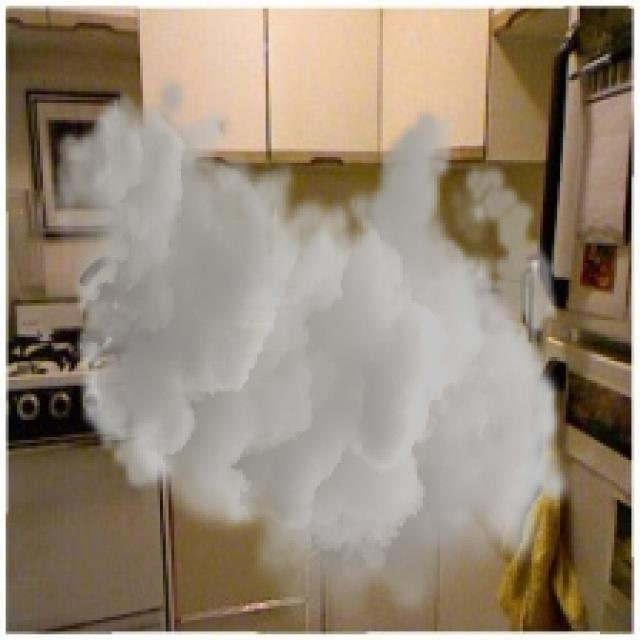Smoke: (48, 72, 574, 638)
